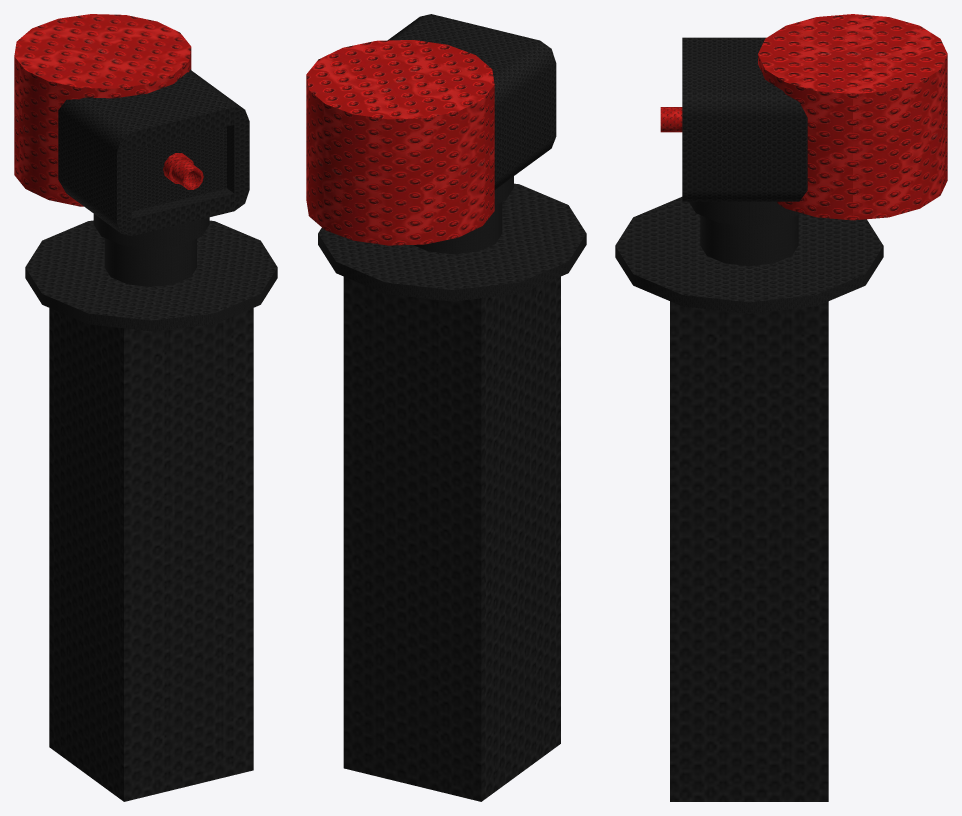
File: TurretPistol.fbx
3 views of the same model, side by side, from view 1: azimuth 30°, elevation 25°; view 2: azimuth 150°, elevation 25°; view 3: azimuth 270°, elevation 25° (orthographic). The views are drawn at different scales.
Parts seen in each view (by area): view 1: Foundation, RotatableHead; view 2: Foundation, RotatableHead; view 3: Foundation, RotatableHead.
Boxes of the visible parts, box(x1,y1,x2,y2) form: Foundation: box(49, 308, 253, 801); RotatableHead: box(14, 14, 277, 331); Foundation: box(343, 276, 560, 801); RotatableHead: box(306, 14, 586, 301); Foundation: box(670, 301, 828, 801); RotatableHead: box(615, 14, 947, 313).
Bounding box in the file's own units: 130 × 383 × 162.
Materials: 2 (2 with a texture image).
